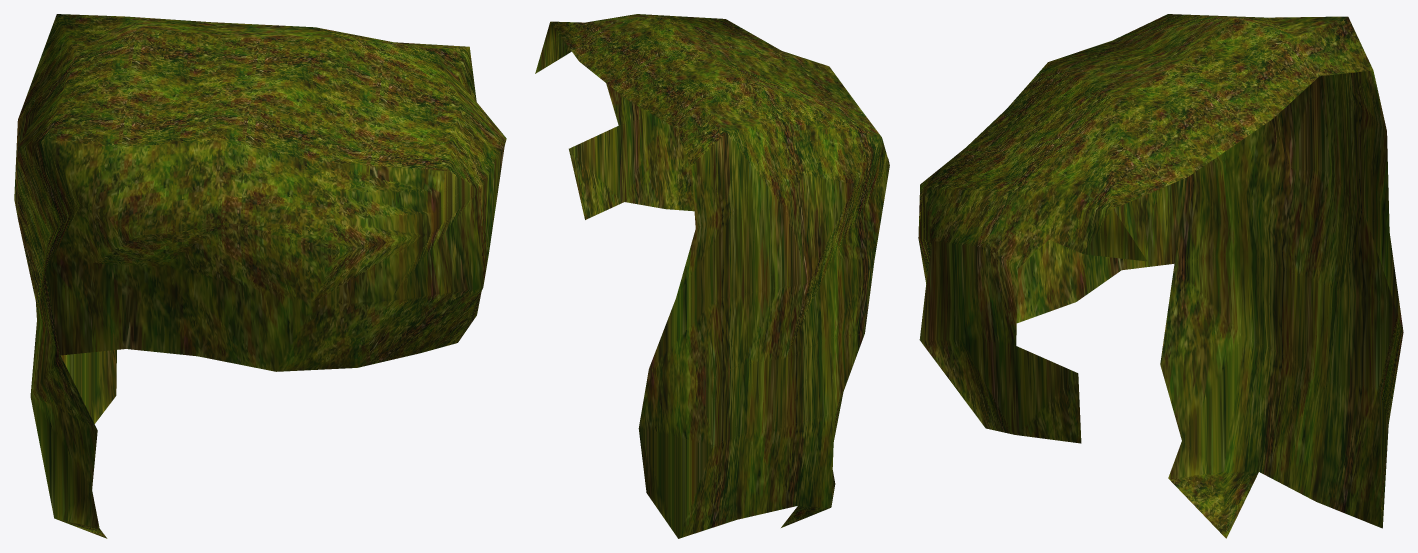
The model's file is TROLLHOLE02_RM_PSURF158.fbx.
The picture shows the model from 3 angles, left to right: view 1: azimuth 30°, elevation 25°; view 2: azimuth 150°, elevation 25°; view 3: azimuth 270°, elevation 25°; orthographic projection. The views are drawn at different scales.
Parts seen in each view (by area): view 1: TROLLHOLE02_RM_PSURF158; view 2: TROLLHOLE02_RM_PSURF158; view 3: TROLLHOLE02_RM_PSURF158.
Part boxes in pixels (left/top/right/bottom): TROLLHOLE02_RM_PSURF158: left=14, top=14, right=506, bottom=538; TROLLHOLE02_RM_PSURF158: left=535, top=14, right=889, bottom=538; TROLLHOLE02_RM_PSURF158: left=918, top=14, right=1403, bottom=538.
Bounding box in the file's own units: 96492 × 115323 × 93500.
Materials: 1 (1 with a texture image).
